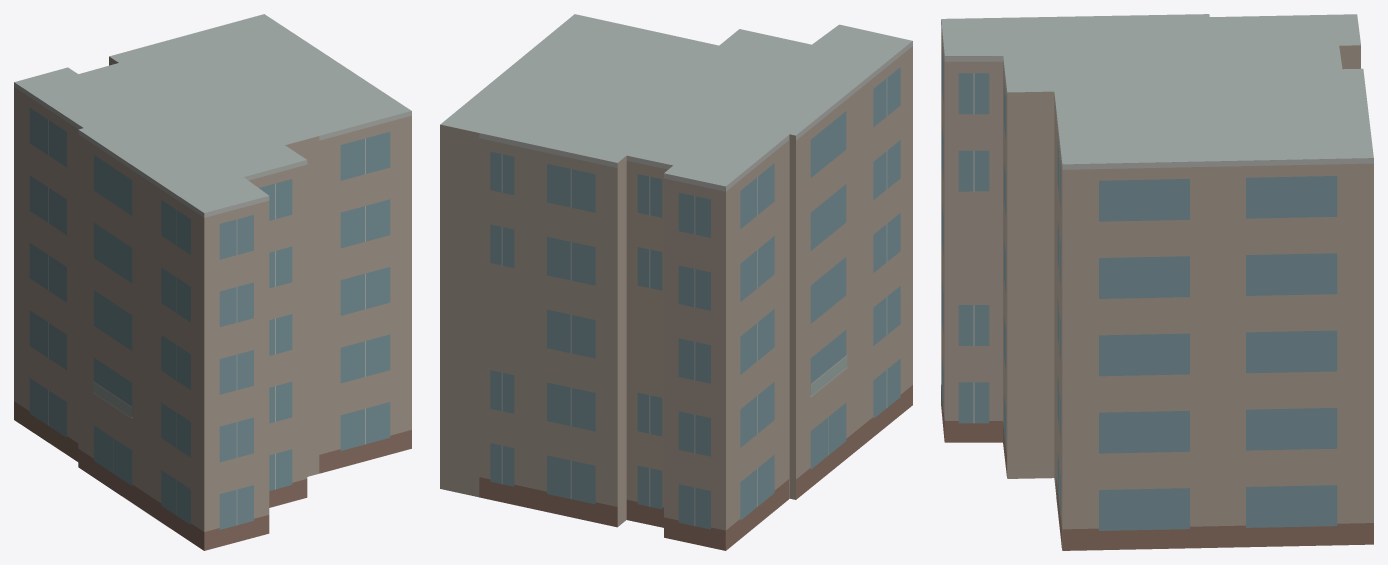
The model's file is survey-upis-32644428.glb.
3 views of the same model, side by side, from view 1: azimuth 30°, elevation 25°; view 2: azimuth 150°, elevation 25°; view 3: azimuth 270°, elevation 25° (orthographic). The views are drawn at different scales.
Visible parts, largest first — view 1: survey-upis-32644428.tmp; view 2: survey-upis-32644428.tmp; view 3: survey-upis-32644428.tmp.
Boxes of the visible parts, bbox=[...] form: survey-upis-32644428.tmp: bbox=[14, 14, 411, 550]; survey-upis-32644428.tmp: bbox=[440, 14, 912, 550]; survey-upis-32644428.tmp: bbox=[941, 14, 1373, 550].
Bounding box in the file's own units: 14.44 × 17.3 × 17.56.
